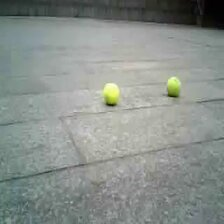tennis: (103, 83, 121, 103), (165, 76, 182, 96)
